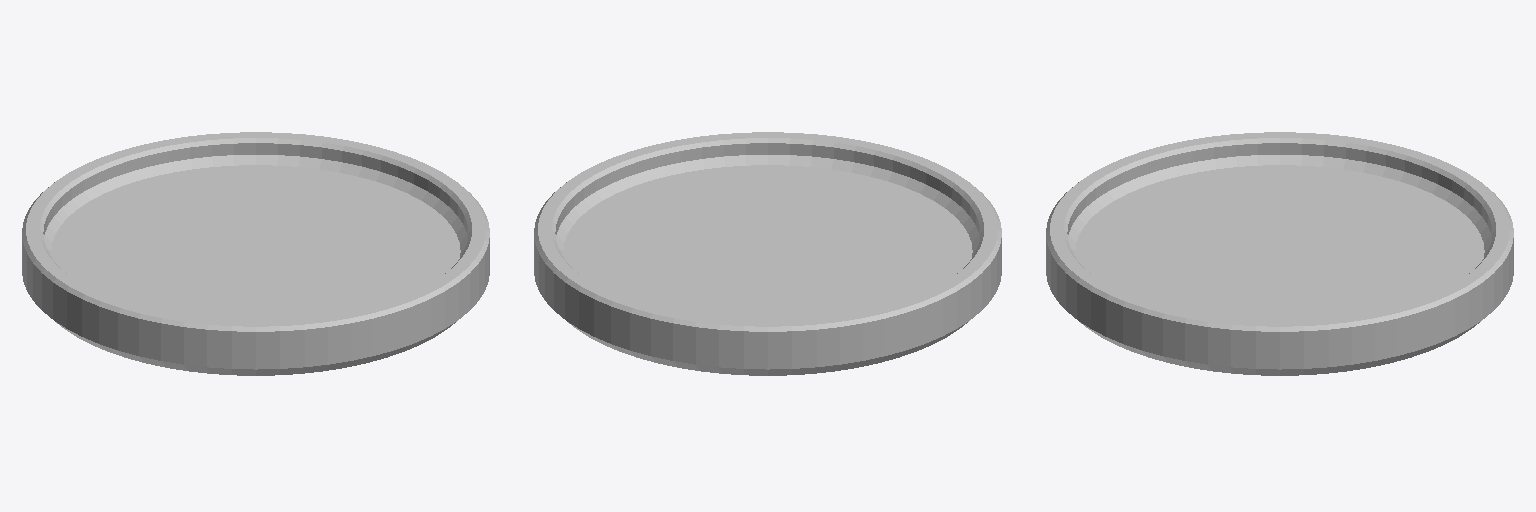
File: plate.obj
The picture shows the model from 3 angles: view 1: azimuth 30°, elevation 25°; view 2: azimuth 150°, elevation 25°; view 3: azimuth 270°, elevation 25°; orthographic projection.
Parts seen in each view (by area): view 1: Cube; view 2: Cube; view 3: Cube.
Part boxes in pixels (bbox=[...]): Cube: bbox=[22, 132, 489, 375]; Cube: bbox=[534, 132, 1001, 375]; Cube: bbox=[1046, 132, 1513, 375].
Size of the model in its own units: 2 by 0.25 by 2.